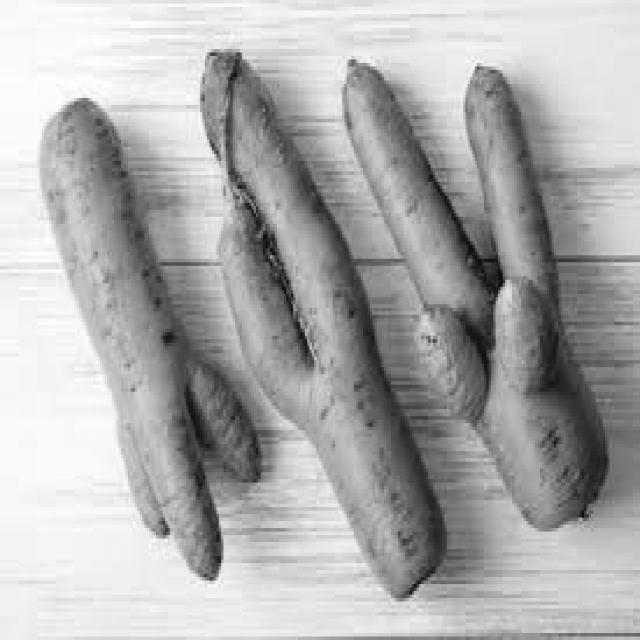Stale_Carrot: (200, 51, 446, 609)
